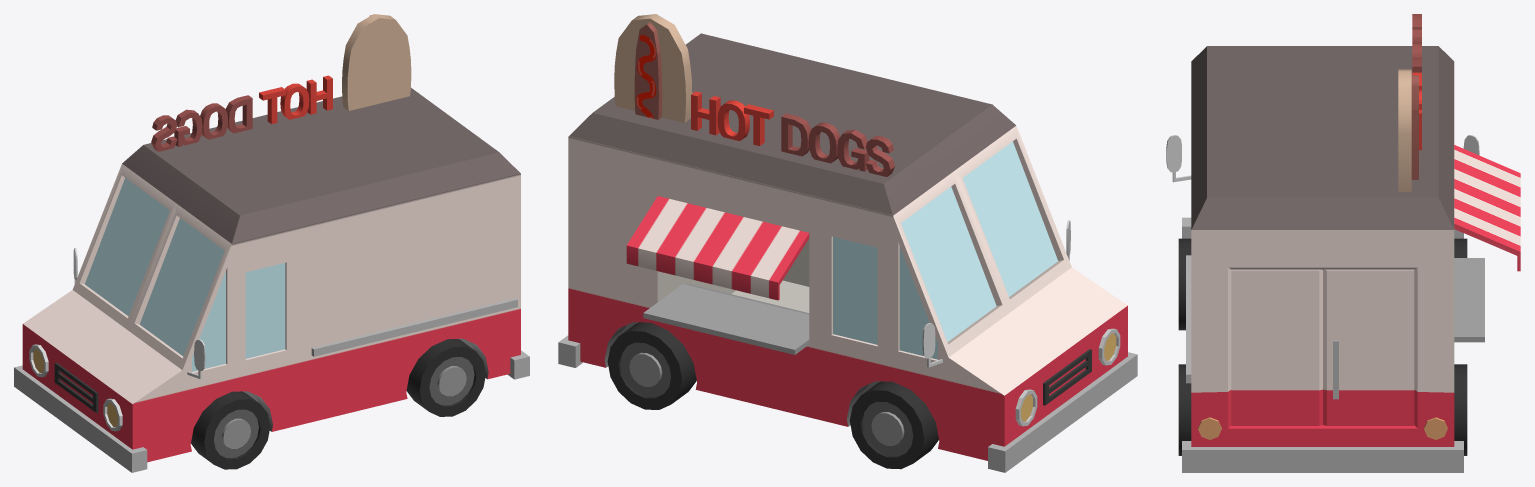
The model's file is fbx_foodtruck_Hotdogs.fbx.
3 renders of one model, left to right at view 1: azimuth 30°, elevation 25°; view 2: azimuth 150°, elevation 25°; view 3: azimuth 270°, elevation 25°, orthographic. The views are drawn at different scales.
Parts seen in each view (by area): view 1: fbx_foodtruck_Hotdogs; view 2: fbx_foodtruck_Hotdogs; view 3: fbx_foodtruck_Hotdogs.
Part boxes in pixels (x1,y1,x2,y2): fbx_foodtruck_Hotdogs: (14, 14, 529, 472); fbx_foodtruck_Hotdogs: (558, 14, 1137, 472); fbx_foodtruck_Hotdogs: (1166, 14, 1520, 472).
Bounding box in the file's own units: 5.78 × 4.54 × 3.73.
Materials: 1 (1 with a texture image).
